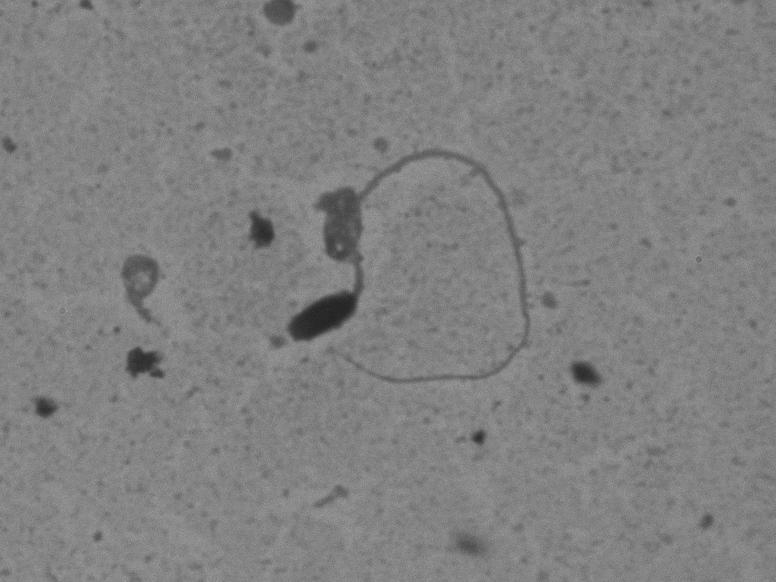Abnormal: (269, 131, 541, 415)
